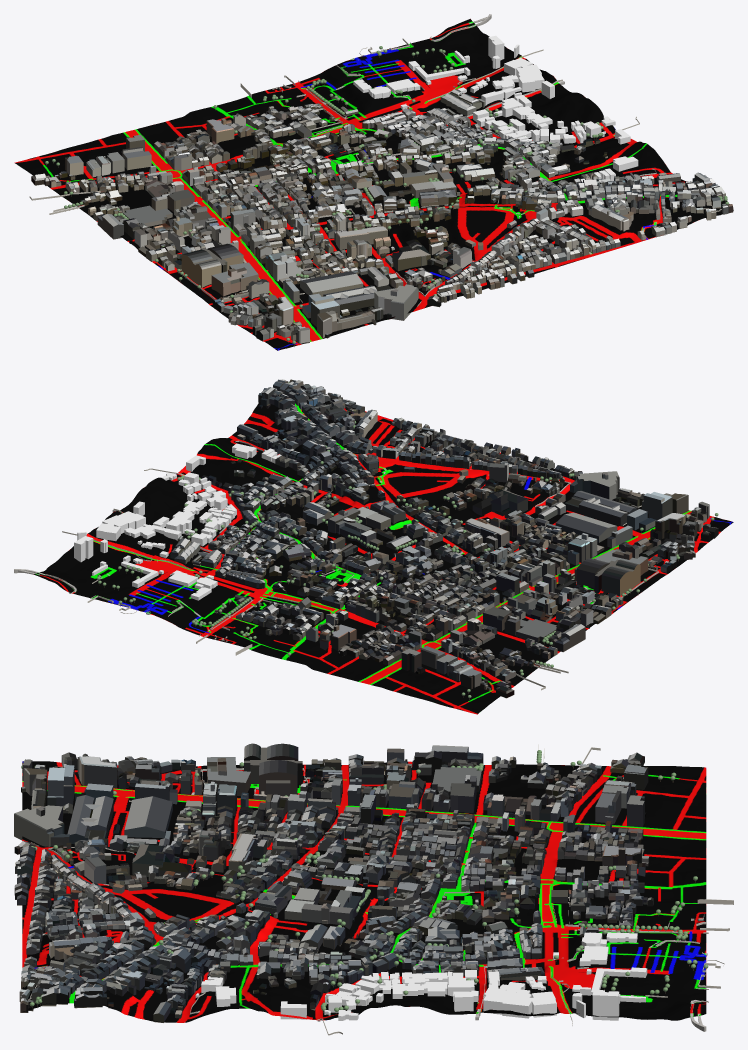
The model's file is world.glb.
3 views of the same model, one above another, from view 1: azimuth 30°, elevation 25°; view 2: azimuth 150°, elevation 25°; view 3: azimuth 270°, elevation 25° (orthographic). The views are drawn at different scales.
Parts seen in each view (by area): view 1: Terrain_GSI_DEM5A, Buildings_s02, Buildings_s15, Buildings_s55, Buildings_s42, Buildings_s35, Buildings_s14, Buildings_s24, Buildings_s25, Buildings_s13, Buildings_s03, Buildings_s22 (+25 smaller); view 2: Terrain_GSI_DEM5A, Buildings_s02, Buildings_s42, Buildings_s44, Buildings_s03, Buildings_s15, Buildings_s24, Buildings_s14, Buildings_s55, Buildings_s12, Buildings_s05, Buildings_s22 (+25 smaller); view 3: Terrain_GSI_DEM5A, Buildings_s02, Buildings_s42, Buildings_s44, Buildings_s14, Buildings_s55, Buildings_s15, Buildings_s03, Buildings_s24, Buildings_s12, Buildings_s13, Buildings_s22 (+26 smaller).
Boxes of the visible parts, x1=… form: Terrain_GSI_DEM5A: x1=14, y1=18, x2=733, y2=350; Buildings_s02: x1=97, y1=189, x2=219, y2=257; Buildings_s15: x1=317, y1=266, x2=418, y2=337; Buildings_s55: x1=617, y1=172, x2=733, y2=237; Buildings_s42: x1=396, y1=109, x2=524, y2=164; Buildings_s35: x1=465, y1=218, x2=574, y2=284; Buildings_s14: x1=265, y1=243, x2=371, y2=296; Buildings_s24: x1=334, y1=213, x2=460, y2=271; Buildings_s25: x1=380, y1=247, x2=504, y2=307; Buildings_s13: x1=234, y1=205, x2=329, y2=263; Buildings_s03: x1=146, y1=225, x2=246, y2=287; Buildings_s22: x1=260, y1=155, x2=371, y2=209; Terrain_GSI_DEM5A: x1=33, y1=394, x2=733, y2=714; Buildings_s02: x1=483, y1=589, x2=605, y2=652; Buildings_s42: x1=191, y1=504, x2=306, y2=569; Buildings_s44: x1=289, y1=430, x2=397, y2=496; Buildings_s03: x1=534, y1=558, x2=640, y2=618; Buildings_s15: x1=538, y1=471, x2=688, y2=526; Buildings_s24: x1=428, y1=483, x2=534, y2=549; Buildings_s14: x1=512, y1=512, x2=617, y2=565; Buildings_s55: x1=258, y1=379, x2=364, y2=433; Buildings_s12: x1=409, y1=569, x2=519, y2=621; Buildings_s05: x1=627, y1=492, x2=718, y2=557; Buildings_s22: x1=347, y1=551, x2=449, y2=602; Terrain_GSI_DEM5A: x1=22, y1=761, x2=706, y2=1022; Buildings_s02: x1=349, y1=745, x2=483, y2=813; Buildings_s42: x1=348, y1=926, x2=491, y2=984; Buildings_s44: x1=129, y1=912, x2=256, y2=979; Buildings_s14: x1=124, y1=781, x2=254, y2=855; Buildings_s55: x1=19, y1=954, x2=146, y2=1012; Buildings_s15: x1=14, y1=768, x2=157, y2=851; Buildings_s03: x1=244, y1=743, x2=364, y2=805; Buildings_s24: x1=132, y1=830, x2=266, y2=890; Buildings_s12: x1=359, y1=793, x2=486, y2=853; Buildings_s13: x1=247, y1=791, x2=363, y2=847; Buildings_s22: x1=362, y1=843, x2=479, y2=898.
Size of what is drawn, in the model's own units: 673 by 63.73 by 632.
8 materials, 1 textured.
